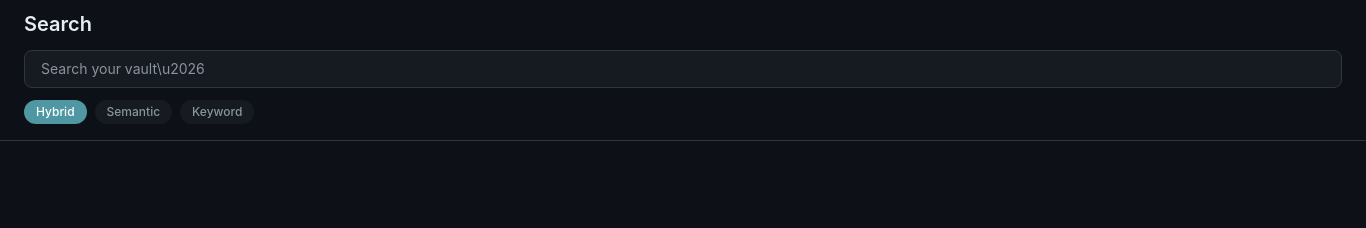
it: SearchPage — error state › shows error message when hook reports isError
In the search field: [683, 69] box [24,50,1342,88], type "EEG"
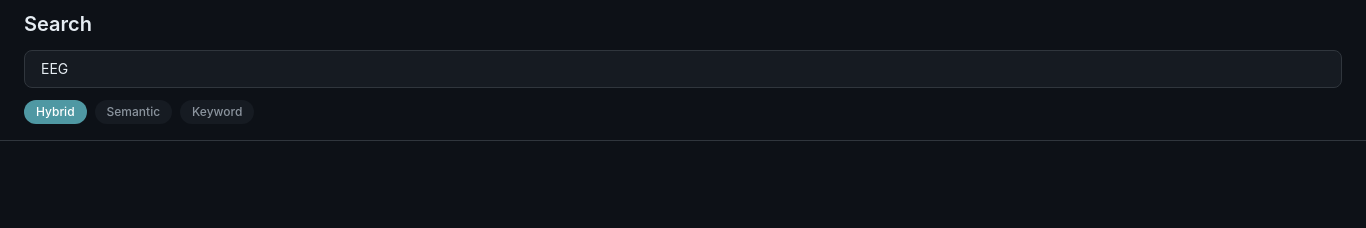
Submit the form, box [24,50,1342,88]
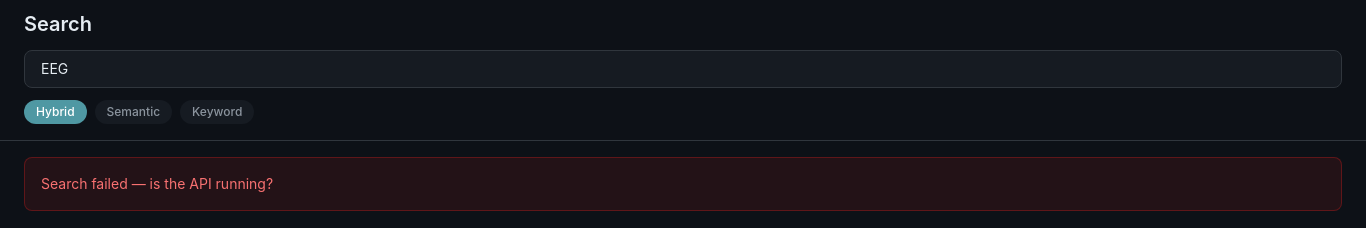
Result: the text "Search failed — is the API running?" is shown at [24,157,1342,211]
